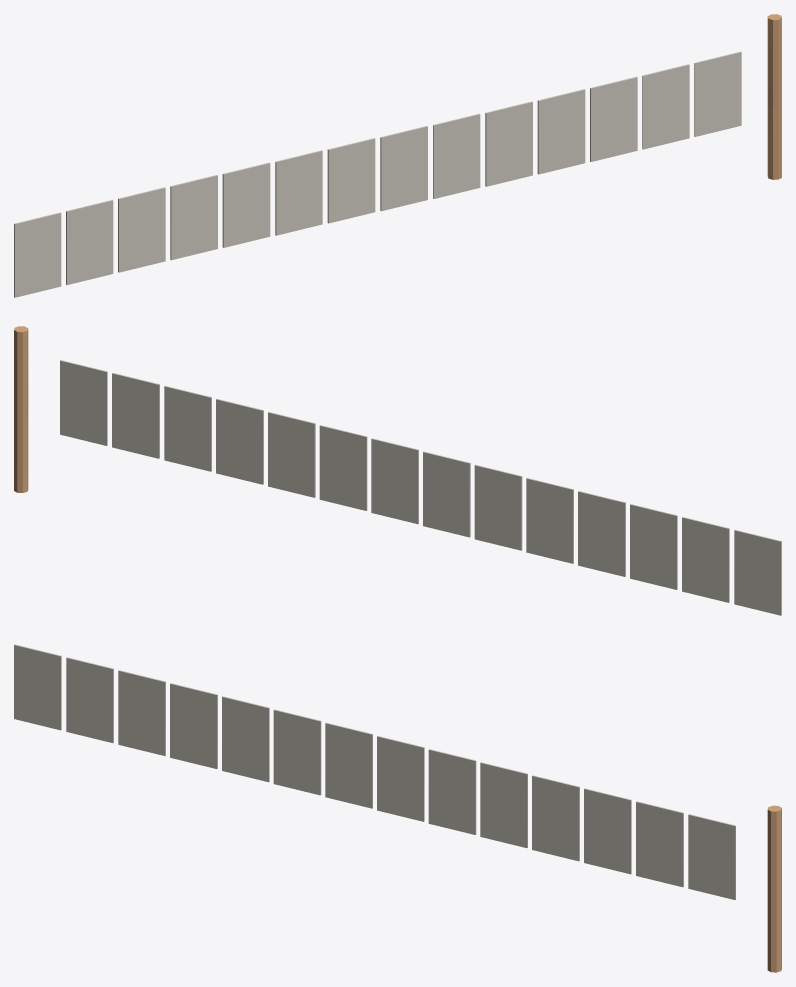
File: tapestry.glb
3 renders of one model, top to bottom at view 1: azimuth 30°, elevation 25°; view 2: azimuth 150°, elevation 25°; view 3: azimuth 330°, elevation 25°, orthographic.
Parts seen in each view (by area): view 1: tapestry; view 2: tapestry; view 3: tapestry.
Part boxes in pixels (bbox=[...]): tapestry: bbox=[14, 14, 781, 297]; tapestry: bbox=[14, 326, 781, 615]; tapestry: bbox=[14, 644, 781, 972].
Bounding box in the file's own units: 50.05 × 10 × 0.84.
